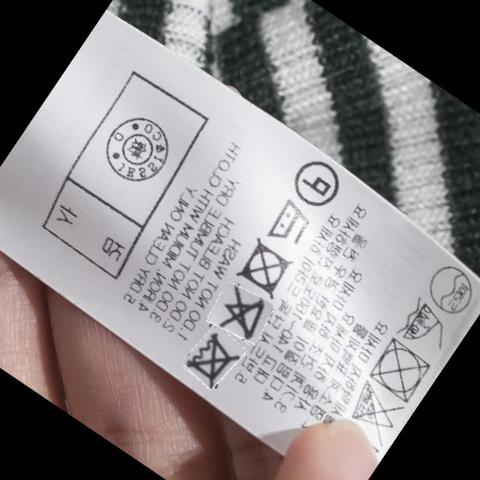DN_bleach: (215, 287, 265, 339)
DN_tumble_dry: (239, 243, 293, 291)
DN_wash: (183, 337, 234, 386)
dry_clean_any_solvent_except_trichloroethylene: (290, 155, 338, 206)
iron_medium: (266, 200, 310, 245)
